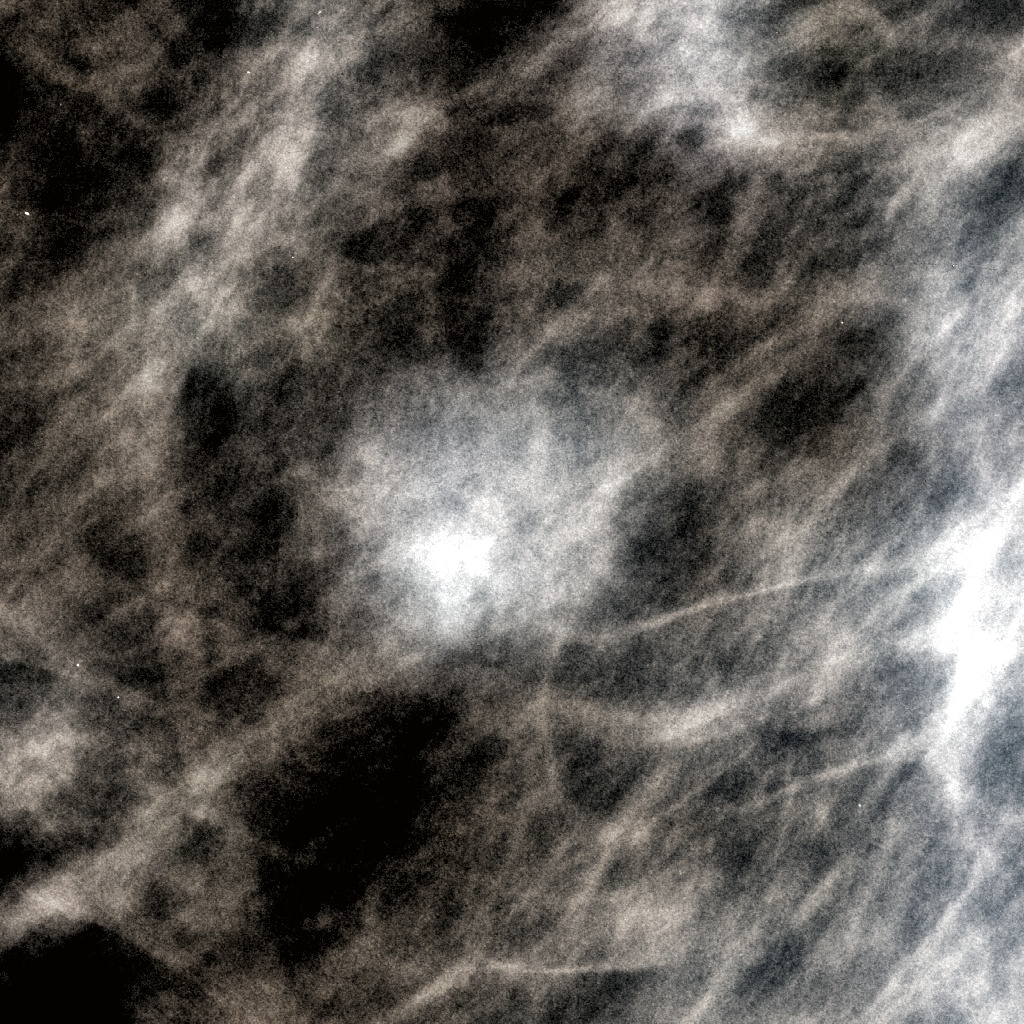tumor: (344, 361, 680, 663)
